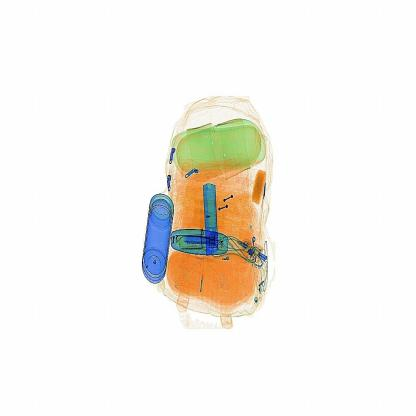pliers: (202, 180, 221, 256)
